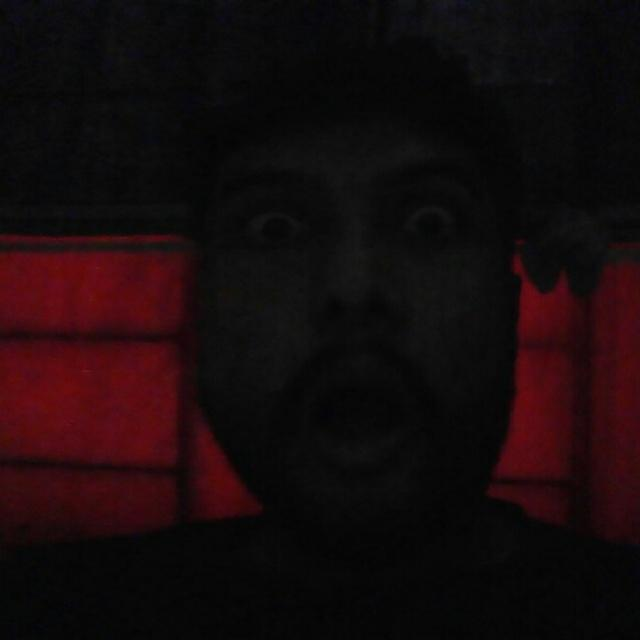Surprised: (95, 123, 533, 510)
